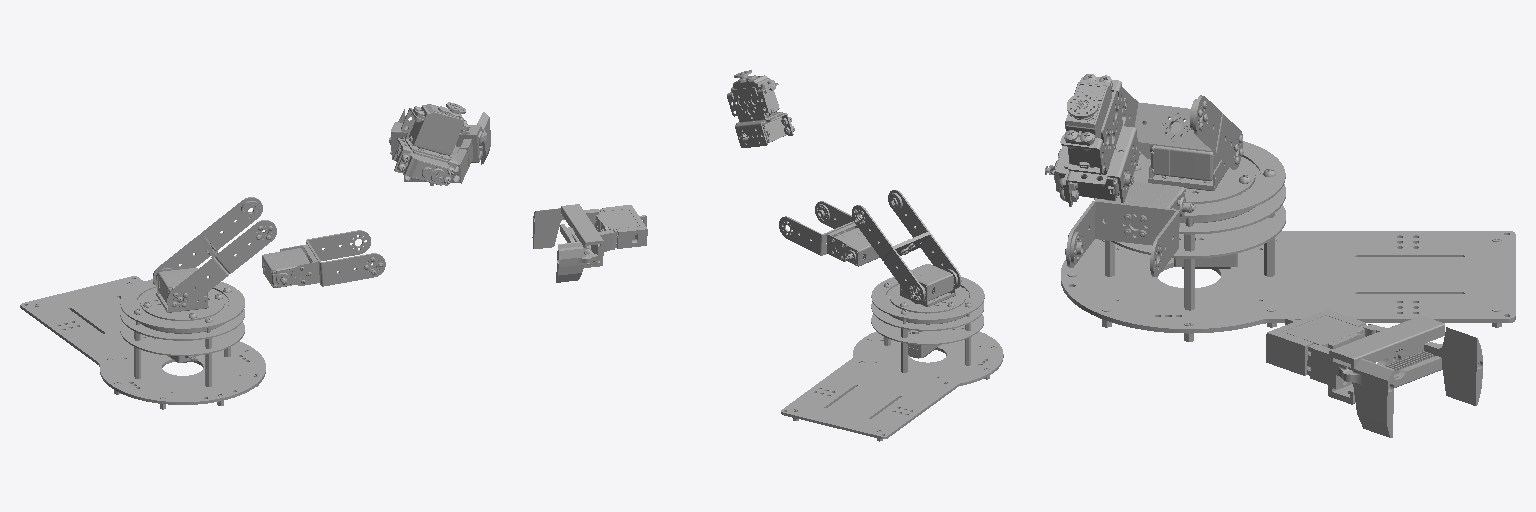
The robot description file, URDF, robot "Hiwonder":
<?xml version="1.0" ?>
<!-- =================================================================================== -->
<!-- |    This document was autogenerated by xacro from urdf/Hiwonder.xacro            | -->
<!-- |    EDITING THIS FILE BY HAND IS NOT RECOMMENDED                                 | -->
<!-- =================================================================================== -->
<robot xmlns:xacro="http://www.ros.org/wiki/xacro" name="Hiwonder">
  <material name="silver">
    <color rgba="0.700 0.700 0.700 1.000"/>
  </material>
  <transmission name="Revolute 13_tran">
    <type>transmission_interface/SimpleTransmission</type>
    <joint name="Revolute 13">
      <hardwareInterface>hardware_interface/EffortJointInterface</hardwareInterface>
    </joint>
    <actuator name="Revolute 13_actr">
      <hardwareInterface>hardware_interface/EffortJointInterface</hardwareInterface>
      <mechanicalReduction>1</mechanicalReduction>
    </actuator>
  </transmission>
  <transmission name="Revolute 14_tran">
    <type>transmission_interface/SimpleTransmission</type>
    <joint name="Revolute 14">
      <hardwareInterface>hardware_interface/EffortJointInterface</hardwareInterface>
    </joint>
    <actuator name="Revolute 14_actr">
      <hardwareInterface>hardware_interface/EffortJointInterface</hardwareInterface>
      <mechanicalReduction>1</mechanicalReduction>
    </actuator>
  </transmission>
  <transmission name="Revolute 15_tran">
    <type>transmission_interface/SimpleTransmission</type>
    <joint name="Revolute 15">
      <hardwareInterface>hardware_interface/EffortJointInterface</hardwareInterface>
    </joint>
    <actuator name="Revolute 15_actr">
      <hardwareInterface>hardware_interface/EffortJointInterface</hardwareInterface>
      <mechanicalReduction>1</mechanicalReduction>
    </actuator>
  </transmission>
  <transmission name="Revolute 16_tran">
    <type>transmission_interface/SimpleTransmission</type>
    <joint name="Revolute 16">
      <hardwareInterface>hardware_interface/EffortJointInterface</hardwareInterface>
    </joint>
    <actuator name="Revolute 16_actr">
      <hardwareInterface>hardware_interface/EffortJointInterface</hardwareInterface>
      <mechanicalReduction>1</mechanicalReduction>
    </actuator>
  </transmission>
  <transmission name="Revolute 19_tran">
    <type>transmission_interface/SimpleTransmission</type>
    <joint name="Revolute 19">
      <hardwareInterface>hardware_interface/EffortJointInterface</hardwareInterface>
    </joint>
    <actuator name="Revolute 19_actr">
      <hardwareInterface>hardware_interface/EffortJointInterface</hardwareInterface>
      <mechanicalReduction>1</mechanicalReduction>
    </actuator>
  </transmission>
  <transmission name="Slider 29_tran">
    <type>transmission_interface/SimpleTransmission</type>
    <joint name="Slider 29">
      <hardwareInterface>hardware_interface/EffortJointInterface</hardwareInterface>
    </joint>
    <actuator name="Slider 29_actr">
      <hardwareInterface>hardware_interface/EffortJointInterface</hardwareInterface>
      <mechanicalReduction>1</mechanicalReduction>
    </actuator>
  </transmission>
  <transmission name="Slider 31_tran">
    <type>transmission_interface/SimpleTransmission</type>
    <joint name="Slider 31">
      <hardwareInterface>hardware_interface/EffortJointInterface</hardwareInterface>
    </joint>
    <actuator name="Slider 31_actr">
      <hardwareInterface>hardware_interface/EffortJointInterface</hardwareInterface>
      <mechanicalReduction>1</mechanicalReduction>
    </actuator>
  </transmission>
  <gazebo>
    <plugin name="control" filename="libgazebo_ros_control.so"/>
  </gazebo>
  <gazebo reference="base_link">
    <material>Gazebo/Silver</material>
    <mu1>0.2</mu1>
    <mu2>0.2</mu2>
    <selfCollide>true</selfCollide>
    <gravity>true</gravity>
  </gazebo>
  <gazebo reference="second_link_1">
    <material>Gazebo/Silver</material>
    <mu1>0.2</mu1>
    <mu2>0.2</mu2>
    <selfCollide>true</selfCollide>
  </gazebo>
  <gazebo reference="third_link_1">
    <material>Gazebo/Silver</material>
    <mu1>0.2</mu1>
    <mu2>0.2</mu2>
    <selfCollide>true</selfCollide>
  </gazebo>
  <gazebo reference="fourth_link_1">
    <material>Gazebo/Silver</material>
    <mu1>0.2</mu1>
    <mu2>0.2</mu2>
    <selfCollide>true</selfCollide>
  </gazebo>
  <gazebo reference="fifth_link_1">
    <material>Gazebo/Silver</material>
    <mu1>0.2</mu1>
    <mu2>0.2</mu2>
    <selfCollide>true</selfCollide>
  </gazebo>
  <gazebo reference="sixth_link_1">
    <material>Gazebo/Silver</material>
    <mu1>0.2</mu1>
    <mu2>0.2</mu2>
    <selfCollide>true</selfCollide>
  </gazebo>
  <gazebo reference="right_finger_1">
    <material>Gazebo/Silver</material>
    <mu1>0.2</mu1>
    <mu2>0.2</mu2>
    <selfCollide>true</selfCollide>
  </gazebo>
  <gazebo reference="left_finger_1">
    <material>Gazebo/Silver</material>
    <mu1>0.2</mu1>
    <mu2>0.2</mu2>
    <selfCollide>true</selfCollide>
  </gazebo>
  <link name="base_link">
    <inertial>
      <origin xyz="1.0914827906389602e-06 0.09260862084125268 0.03056402721165038" rpy="0 0 0"/>
      <mass value="1.5251096871562557"/>
      <inertia ixx="0.008261" iyy="0.002907" izz="0.009107" ixy="0.0" iyz="0.001105" ixz="-0.0"/>
    </inertial>
    <visual>
      <origin xyz="0 0 0" rpy="0 0 0"/>
      <geometry>
        <mesh filename="package://Hiwonder_description/meshes/base_link.stl" scale="0.001 0.001 0.001"/>
      </geometry>
      <material name="silver"/>
    </visual>
    <collision>
      <origin xyz="0 0 0" rpy="0 0 0"/>
      <geometry>
        <mesh filename="package://Hiwonder_description/meshes/base_link.stl" scale="0.001 0.001 0.001"/>
      </geometry>
    </collision>
  </link>
  <link name="second_link_1">
    <inertial>
      <origin xyz="0.0015155642244600231 1.7928644227699353e-06 0.024809430057861744" rpy="0 0 0"/>
      <mass value="0.37909012139587217"/>
      <inertia ixx="0.000161" iyy="0.00016" izz="0.000201" ixy="0.0" iyz="0.0" ixz="-6e-06"/>
    </inertial>
    <visual>
      <origin xyz="0.0 -0.056304 -0.060801" rpy="0 0 0"/>
      <geometry>
        <mesh filename="package://Hiwonder_description/meshes/second_link_1.stl" scale="0.001 0.001 0.001"/>
      </geometry>
      <material name="silver"/>
    </visual>
    <collision>
      <origin xyz="0.0 -0.056304 -0.060801" rpy="0 0 0"/>
      <geometry>
        <mesh filename="package://Hiwonder_description/meshes/second_link_1.stl" scale="0.001 0.001 0.001"/>
      </geometry>
    </collision>
  </link>
  <link name="third_link_1">
    <inertial>
      <origin xyz="-0.027698296621942956 0.04765413999012262 0.020748432672287473" rpy="0 0 0"/>
      <mass value="0.16226233466168985"/>
      <inertia ixx="0.000203" iyy="0.000132" izz="0.00026" ixy="-0.0" iyz="-6.9e-05" ixz="-0.0"/>
    </inertial>
    <visual>
      <origin xyz="-0.028042 -0.046304 -0.095801" rpy="0 0 0"/>
      <geometry>
        <mesh filename="package://Hiwonder_description/meshes/third_link_1.stl" scale="0.001 0.001 0.001"/>
      </geometry>
      <material name="silver"/>
    </visual>
    <collision>
      <origin xyz="-0.028042 -0.046304 -0.095801" rpy="0 0 0"/>
      <geometry>
        <mesh filename="package://Hiwonder_description/meshes/third_link_1.stl" scale="0.001 0.001 0.001"/>
      </geometry>
    </collision>
  </link>
  <link name="fourth_link_1">
    <inertial>
      <origin xyz="-0.02572686990818987 0.004053928250455058 0.023157892432834615" rpy="0 0 0"/>
      <mass value="0.2923899366437736"/>
      <inertia ixx="0.000208" iyy="0.00026" izz="8.7e-05" ixy="-0.0" iyz="-3.2e-05" ixz="-2e-06"/>
    </inertial>
    <visual>
      <origin xyz="-0.028042 -0.141658 -0.137318" rpy="0 0 0"/>
      <geometry>
        <mesh filename="package://Hiwonder_description/meshes/fourth_link_1.stl" scale="0.001 0.001 0.001"/>
      </geometry>
      <material name="silver"/>
    </visual>
    <collision>
      <origin xyz="-0.028042 -0.141658 -0.137318" rpy="0 0 0"/>
      <geometry>
        <mesh filename="package://Hiwonder_description/meshes/fourth_link_1.stl" scale="0.001 0.001 0.001"/>
      </geometry>
    </collision>
  </link>
  <link name="fifth_link_1">
    <inertial>
      <origin xyz="0.02482151135065362 -0.01754474473381723 0.013754851957438224" rpy="0 0 0"/>
      <mass value="0.29380221652800204"/>
      <inertia ixx="0.000201" iyy="0.000157" izz="0.000113" ixy="-4e-06" iyz="2.4e-05" ixz="5e-06"/>
    </inertial>
    <visual>
      <origin xyz="0.0285 -0.157021 -0.224566" rpy="0 0 0"/>
      <geometry>
        <mesh filename="package://Hiwonder_description/meshes/fifth_link_1.stl" scale="0.001 0.001 0.001"/>
      </geometry>
      <material name="silver"/>
    </visual>
    <collision>
      <origin xyz="0.0285 -0.157021 -0.224566" rpy="0 0 0"/>
      <geometry>
        <mesh filename="package://Hiwonder_description/meshes/fifth_link_1.stl" scale="0.001 0.001 0.001"/>
      </geometry>
    </collision>
  </link>
  <link name="sixth_link_1">
    <inertial>
      <origin xyz="-5.564917727016649e-05 -0.024329962527568846 0.039653341169548384" rpy="0 0 0"/>
      <mass value="0.5747761409814244"/>
      <inertia ixx="0.000539" iyy="0.000285" izz="0.000328" ixy="-9e-06" iyz="5.9e-05" ixz="-2e-06"/>
    </inertial>
    <visual>
      <origin xyz="0.003224 -0.127901 -0.28191" rpy="0 0 0"/>
      <geometry>
        <mesh filename="package://Hiwonder_description/meshes/sixth_link_1.stl" scale="0.001 0.001 0.001"/>
      </geometry>
      <material name="silver"/>
    </visual>
    <collision>
      <origin xyz="0.003224 -0.127901 -0.28191" rpy="0 0 0"/>
      <geometry>
        <mesh filename="package://Hiwonder_description/meshes/sixth_link_1.stl" scale="0.001 0.001 0.001"/>
      </geometry>
    </collision>
  </link>
  <link name="right_finger_1">
    <inertial>
      <origin xyz="0.3334698569050242 -0.00907267411723324 -0.01453310351807563" rpy="0 0 0"/>
      <mass value="0.07962832262347441"/>
      <inertia ixx="4.1e-05" iyy="3.8e-05" izz="2.4e-05" ixy="3e-06" iyz="-1.2e-05" ixz="1e-05"/>
    </inertial>
    <visual>
      <origin xyz="0.336601 -0.108453 -0.384364" rpy="0 0 0"/>
      <geometry>
        <mesh filename="package://Hiwonder_description/meshes/right_finger_1.stl" scale="0.001 0.001 0.001"/>
      </geometry>
      <material name="silver"/>
    </visual>
    <collision>
      <origin xyz="0.336601 -0.108453 -0.384364" rpy="0 0 0"/>
      <geometry>
        <mesh filename="package://Hiwonder_description/meshes/right_finger_1.stl" scale="0.001 0.001 0.001"/>
      </geometry>
    </collision>
  </link>
  <link name="left_finger_1">
    <inertial>
      <origin xyz="0.0021544872810023447 -0.02302381129656561 0.005335867881885781" rpy="0 0 0"/>
      <mass value="0.07506411850762539"/>
      <inertia ixx="3.9e-05" iyy="1.2e-05" izz="3.7e-05" ixy="-1e-06" iyz="3e-06" ixz="0.0"/>
    </inertial>
    <visual>
      <origin xyz="0.014763 -0.085594 -0.345323" rpy="0 0 0"/>
      <geometry>
        <mesh filename="package://Hiwonder_description/meshes/left_finger_1.stl" scale="0.001 0.001 0.001"/>
      </geometry>
      <material name="silver"/>
    </visual>
    <collision>
      <origin xyz="0.014763 -0.085594 -0.345323" rpy="0 0 0"/>
      <geometry>
        <mesh filename="package://Hiwonder_description/meshes/left_finger_1.stl" scale="0.001 0.001 0.001"/>
      </geometry>
    </collision>
  </link>
<joint name="Revolute 13" type="revolute">
    <origin xyz="0.0 0.056304 0.060801" rpy="0 0 4.450589"/>
    <parent link="base_link"/>
    <child link="second_link_1"/>
    <axis xyz="0.0 0.0 1.0"/>
    <limit upper="3.141593" lower="0.0" effort="100" velocity="100"/>
</joint>
  <joint name="Revolute 14" type="revolute">
    <origin xyz="0.028042 -0.01 0.035" rpy="-0.349066 0 0"/>
    <parent link="second_link_1"/>
    <child link="third_link_1"/>
    <axis xyz="1.0 0.0 0.0"/>
    <limit upper="2.879793" lower="0.0" effort="100" velocity="100"/>
  </joint>
  <joint name="Revolute 15" type="revolute">
    <origin xyz="0.0 0.095354 0.041517" rpy="-0.977384 0 0"/>
    <parent link="third_link_1"/>
    <child link="fourth_link_1"/>
    <axis xyz="1.0 0.0 0.0"/>
    <limit upper="1.570796" lower="0.0" effort="100" velocity="100"/>
  </joint>
  <joint name="Revolute 16" type="revolute">
    <origin xyz="-0.056542 0.015363 0.087248" rpy="-0.628319 0 0"/>
    <parent link="fourth_link_1"/>
    <child link="fifth_link_1"/>
    <axis xyz="1.0 0.0 0.0"/>
    <limit upper="1.570796" lower="0.0" effort="100" velocity="100"/>
  </joint>
  <joint name="Revolute 19" type="revolute">
    <origin xyz="0.025276 -0.02912 0.057344" rpy="-0.463617 0.455242 -1.570777"/>
    <parent link="fifth_link_1"/>
    <child link="sixth_link_1"/>
    <axis xyz="0.004192 -0.443437 0.896296"/>
    <limit upper="3.141593" lower="0.0" effort="100" velocity="100"/>
  </joint>
  <joint name="Slider 29" type="prismatic">
    <origin xyz="-0.333377 -0.019448 0.102454" rpy="0 0 0"/>
    <parent link="sixth_link_1"/>
    <child link="right_finger_1"/>
    <axis xyz="0.045686 0.895452 0.442806"/>
    <limit upper="0.01" lower="-0.05" effort="100" velocity="100"/>
  </joint>
  <joint name="Slider 31" type="prismatic">
    <origin xyz="-0.011539 -0.042307 0.063413" rpy="0 0 0"/>
    <parent link="sixth_link_1"/>
    <child link="left_finger_1"/>
    <axis xyz="0.045686 0.895452 0.442806"/>
    <limit upper="0.05" lower="-0.01" effort="100" velocity="100"/>
    <mimic joint="Slider 29" multiplier="-1.0" offset="0.0" />
  </joint>
</robot>

--- Render facts (derived) ---
Views: 3 orthographic renders of the robot side by side, from view 1: azimuth 30°, elevation 25°; view 2: azimuth 150°, elevation 25°; view 3: azimuth 270°, elevation 25°.
Robot: Hiwonder — 8 links, 7 joints (5 revolute, 2 prismatic); root link base_link; default pose: all joints at 0.
Visible links, largest first — view 1: base_link, third_link_1, fourth_link_1, fifth_link_1, second_link_1, sixth_link_1; view 2: base_link, third_link_1, sixth_link_1, fifth_link_1, fourth_link_1, second_link_1, left_finger_1, right_finger_1; view 3: base_link, sixth_link_1, fifth_link_1, fourth_link_1, third_link_1, second_link_1, left_finger_1, right_finger_1.
Link boxes in pixels (left/top/right/bottom): base_link: left=20, top=276, right=265, bottom=409; third_link_1: left=153, top=197, right=276, bottom=311; fourth_link_1: left=262, top=230, right=385, bottom=287; fifth_link_1: left=393, top=102, right=469, bottom=185; second_link_1: left=137, top=268, right=228, bottom=321; sixth_link_1: left=391, top=122, right=482, bottom=185; base_link: left=781, top=277, right=1003, bottom=441; third_link_1: left=852, top=190, right=961, bottom=303; sixth_link_1: left=560, top=204, right=647, bottom=267; fifth_link_1: left=727, top=70, right=794, bottom=147; fourth_link_1: left=779, top=201, right=879, bottom=266; second_link_1: left=886, top=264, right=968, bottom=313; left_finger_1: left=556, top=233, right=599, bottom=282; right_finger_1: left=532, top=208, right=564, bottom=248; base_link: left=1061, top=141, right=1515, bottom=341; sixth_link_1: left=1266, top=309, right=1444, bottom=404; fifth_link_1: left=1045, top=74, right=1139, bottom=206; fourth_link_1: left=1065, top=182, right=1194, bottom=276; third_link_1: left=1112, top=88, right=1243, bottom=169; second_link_1: left=1133, top=122, right=1260, bottom=204; left_finger_1: left=1385, top=327, right=1482, bottom=405; right_finger_1: left=1332, top=349, right=1403, bottom=437.
Size in the robot's own frame: 0.4931 by 0.2929 by 0.255 metres.
8 mesh visuals loaded from 8 distinct referenced files (8 binary STL).
